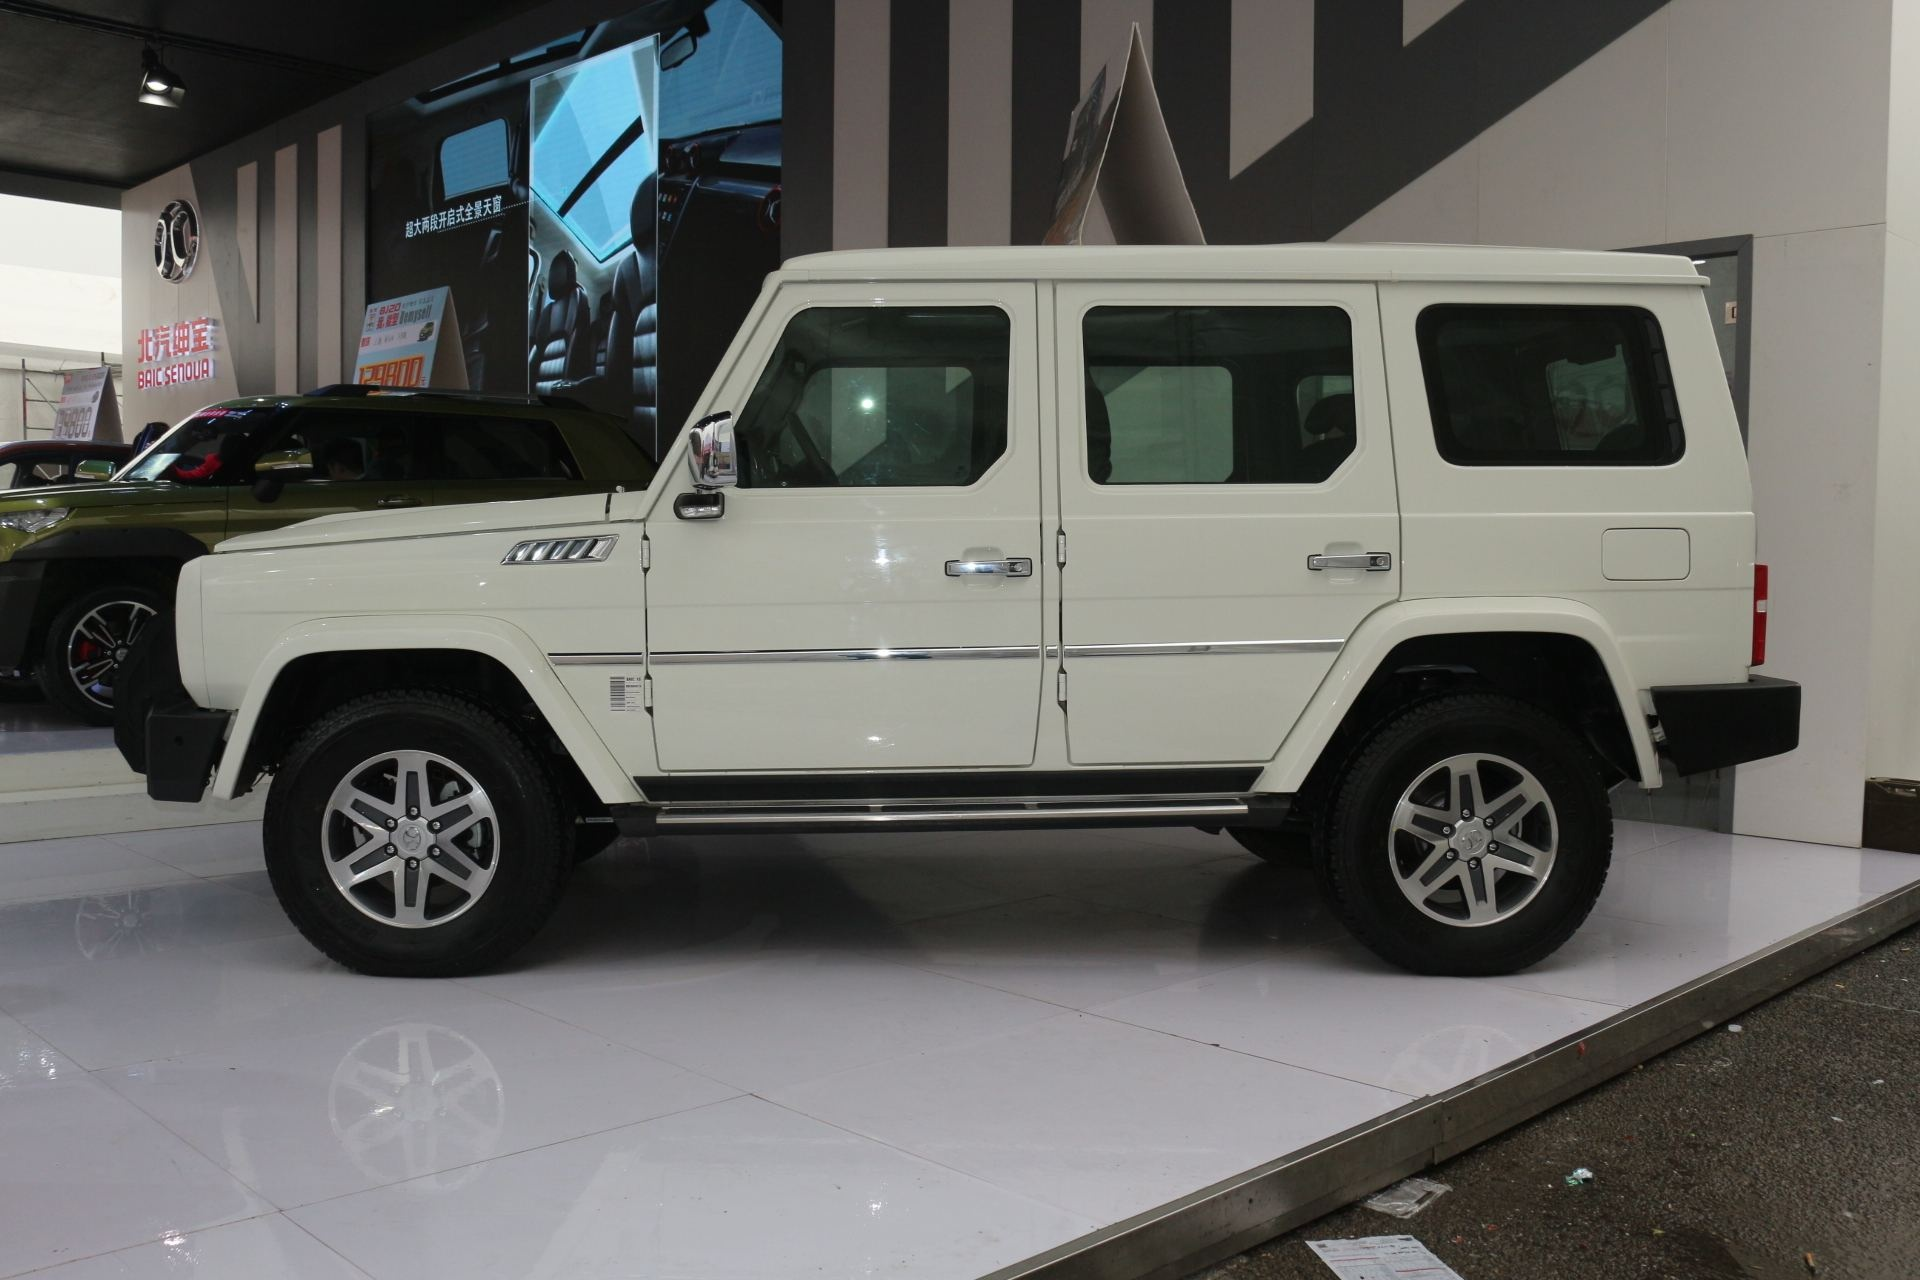jeep: (164, 231, 1826, 1014)
